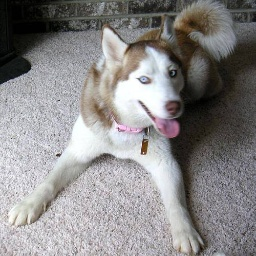dog: (16, 3, 238, 249)
